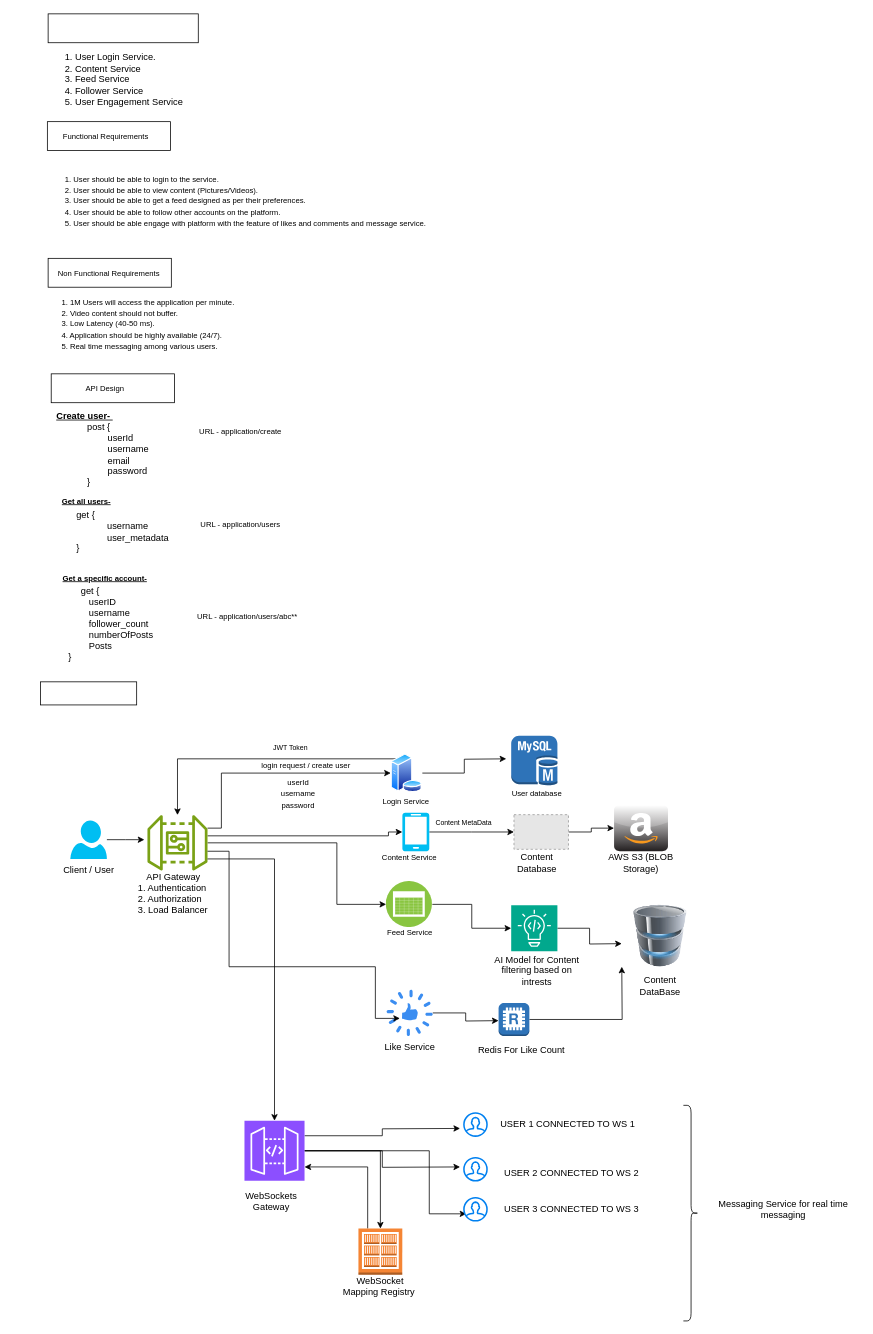
This 873x1334 diagram has some shape labels left out. Grey dashed boxes stand in for pictures. Here are the shapes that lost their labels. From the top down, the centre of each, then its label:
(122,28): Design an Instagram like system
(88,693): HLD
